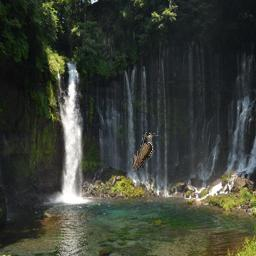Cuckoo: (132, 132, 164, 173)
